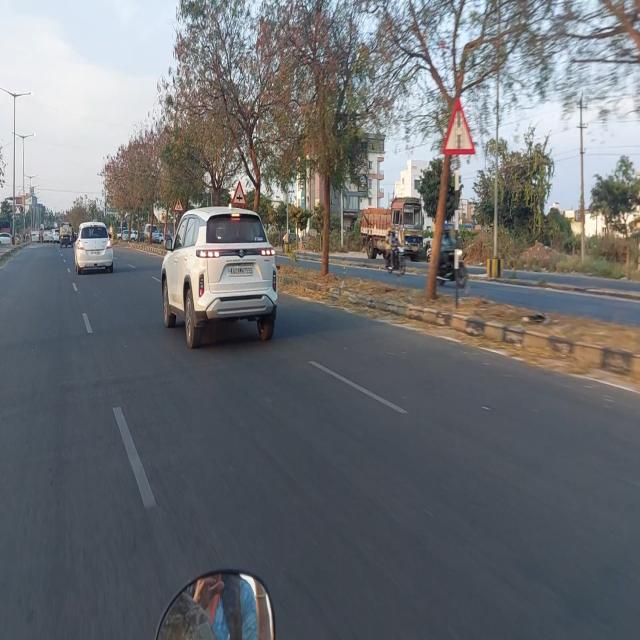bien_cam: (442, 92, 474, 157), (231, 179, 247, 208), (173, 195, 184, 212)
